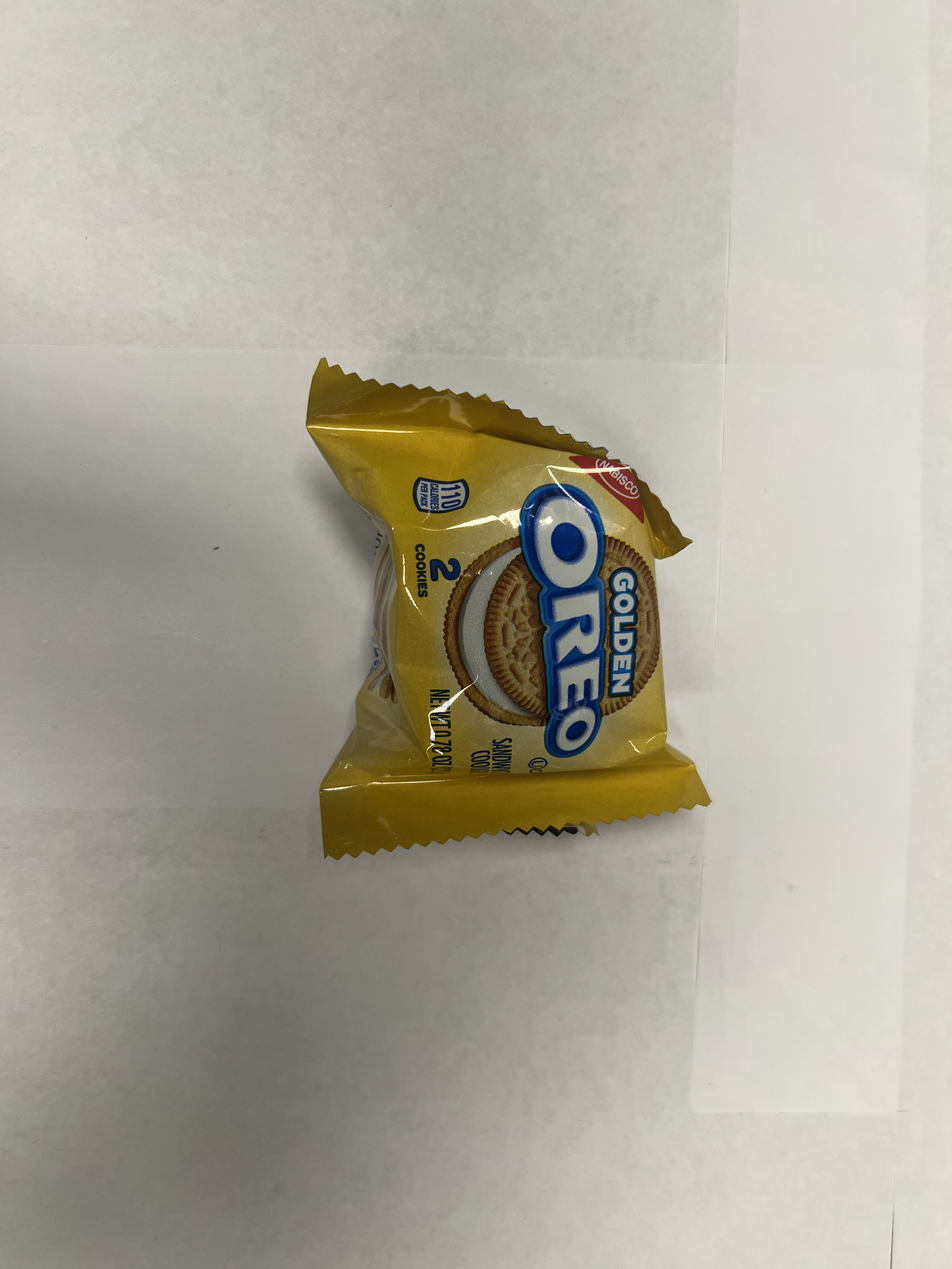packaged: (300, 352, 711, 863)
